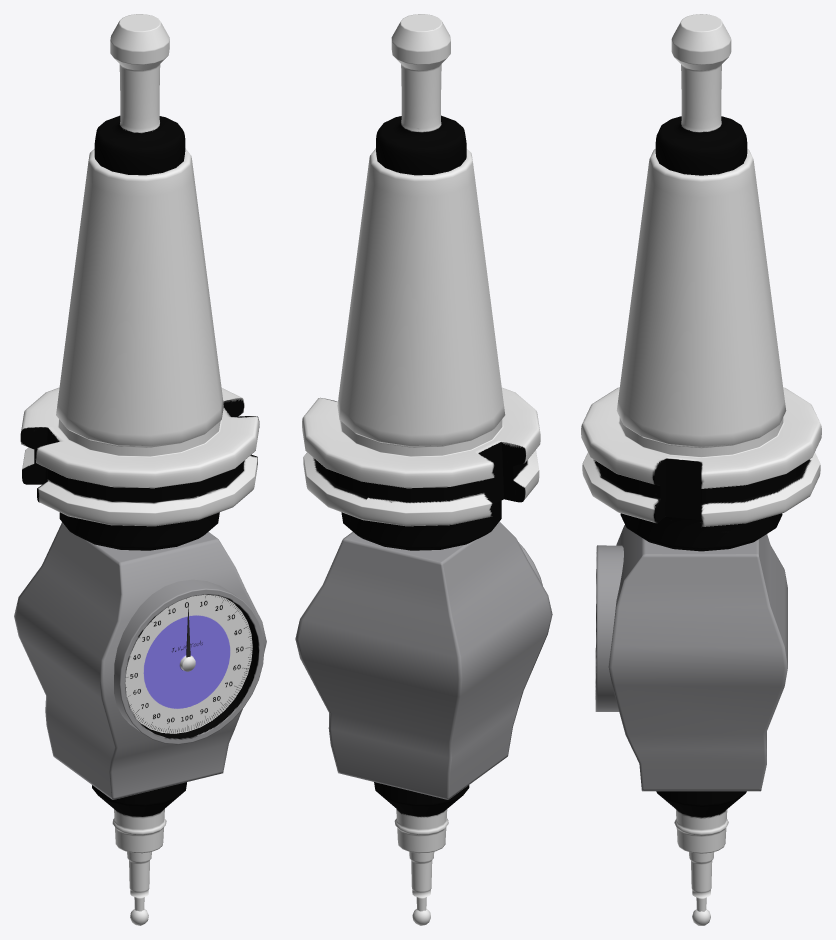
File: Tool.fbx
3 views of the same model, side by side, from view 1: azimuth 30°, elevation 25°; view 2: azimuth 150°, elevation 25°; view 3: azimuth 270°, elevation 25° (orthographic).
Visible parts, largest first — view 1: ToolHolder, Measurer, Point; view 2: ToolHolder, Measurer, Point; view 3: ToolHolder, Measurer, Point.
Part boxes in pixels (x1,y1,x2,y2): ToolHolder: (20,14,259,550); Measurer: (14,522,266,816); Point: (112,809,166,925); ToolHolder: (302,14,540,550); Measurer: (295,521,552,816); Point: (394,809,448,925); ToolHolder: (581,14,821,551); Measurer: (595,525,787,817); Point: (674,809,728,925).
Size of the model in its own units: 5.02 by 20.75 by 5.02.
